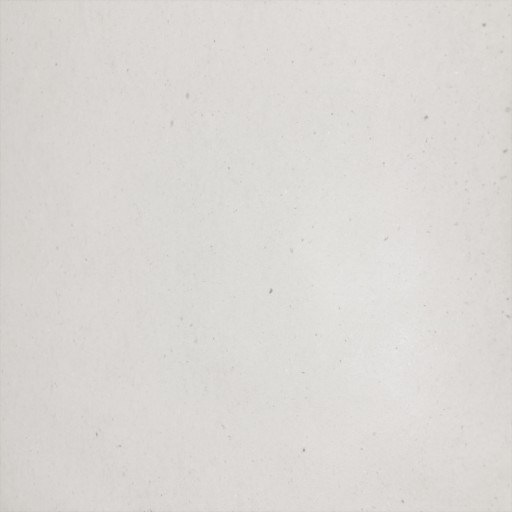lego: (207, 208, 305, 303)
